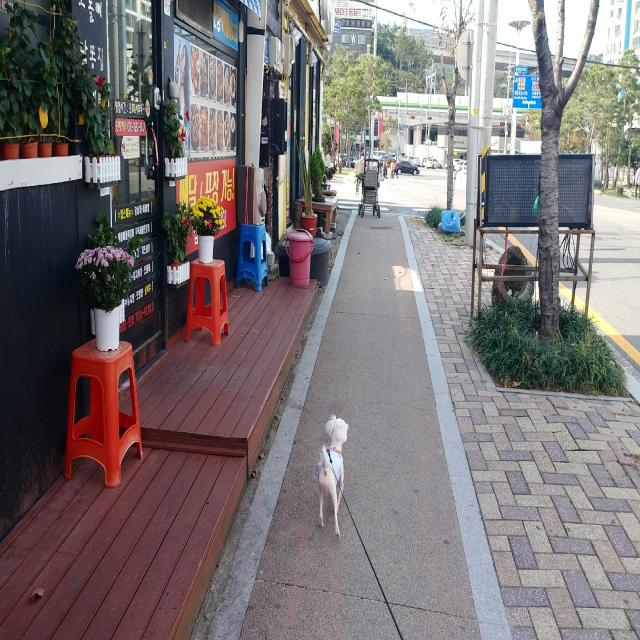횡단보도: (337, 196, 390, 212)
